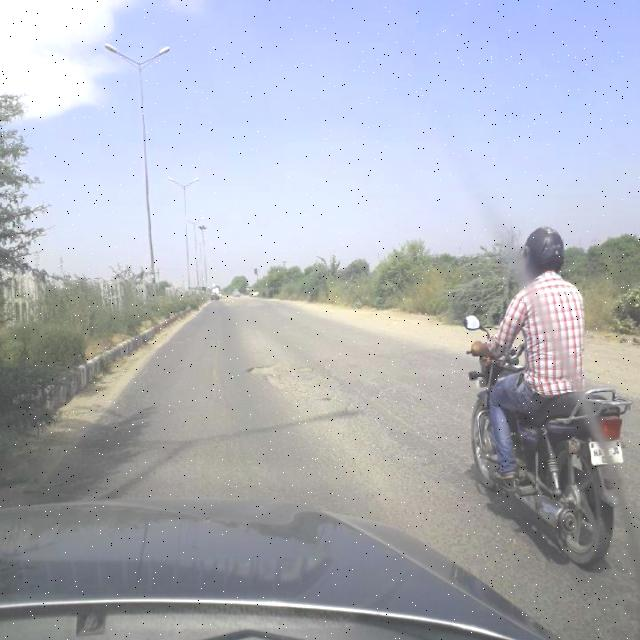D40: (246, 359, 356, 402)
